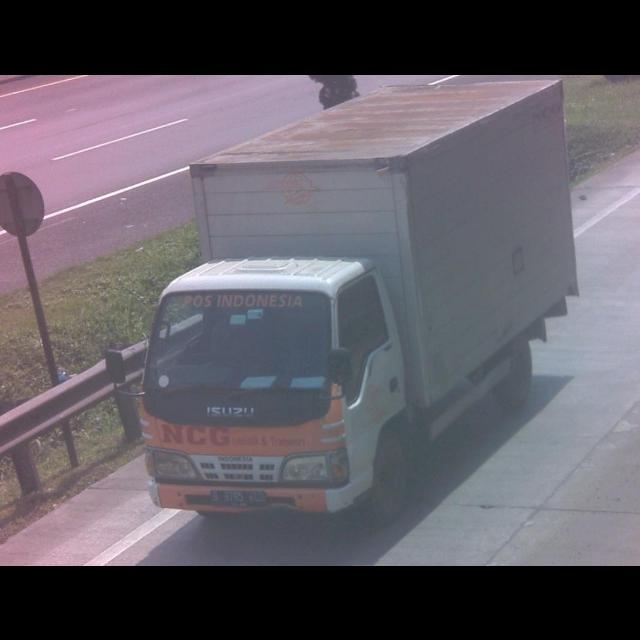plate: (207, 488, 266, 506)
